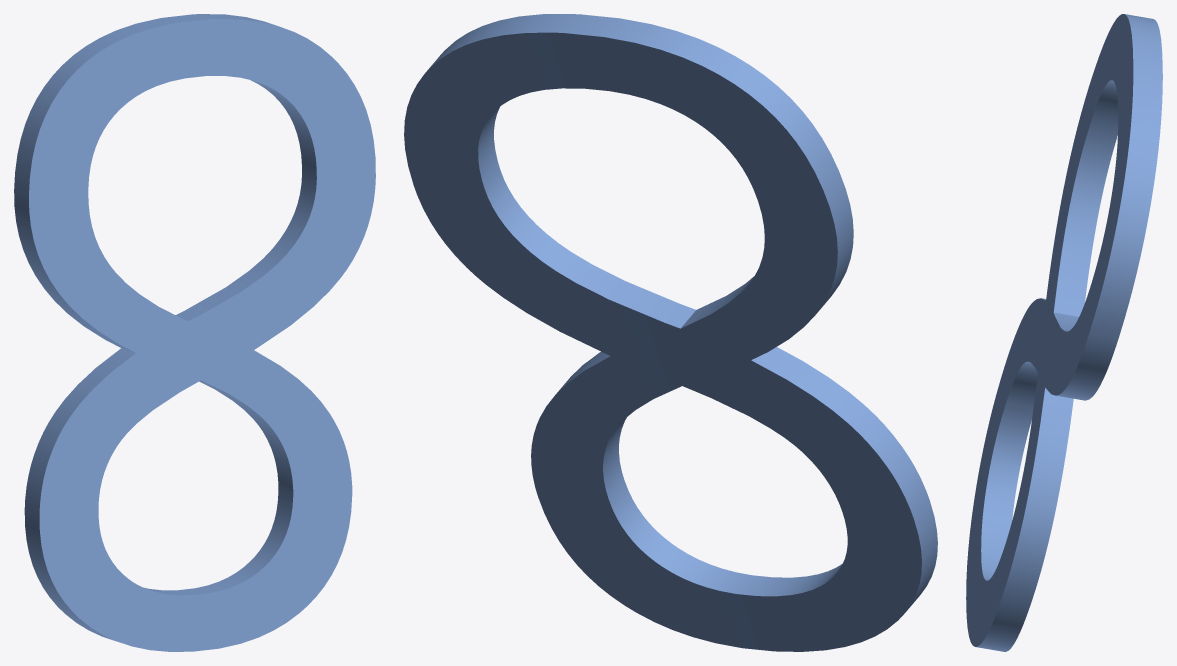
Rendered from New_Number_8.gltf.
3 renders of one model, left to right at view 1: azimuth 30°, elevation 25°; view 2: azimuth 150°, elevation 25°; view 3: azimuth 270°, elevation 25°, orthographic. The views are drawn at different scales.
Parts seen in each view (by area): view 1: Part 494; view 2: Part 494; view 3: Part 494.
Boxes of the visible parts, x1,y1,x2,y2 form: Part 494: (14, 14, 375, 651); Part 494: (404, 14, 937, 651); Part 494: (966, 14, 1162, 651).
Bounding box in the file's own units: 0.00392 × 0.00554 × 0.00166.
